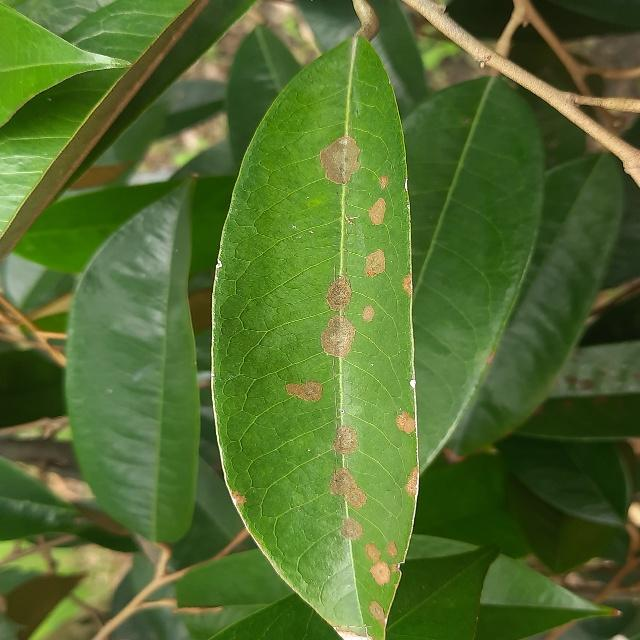Algal Leaf Spot: (202, 29, 427, 640)
